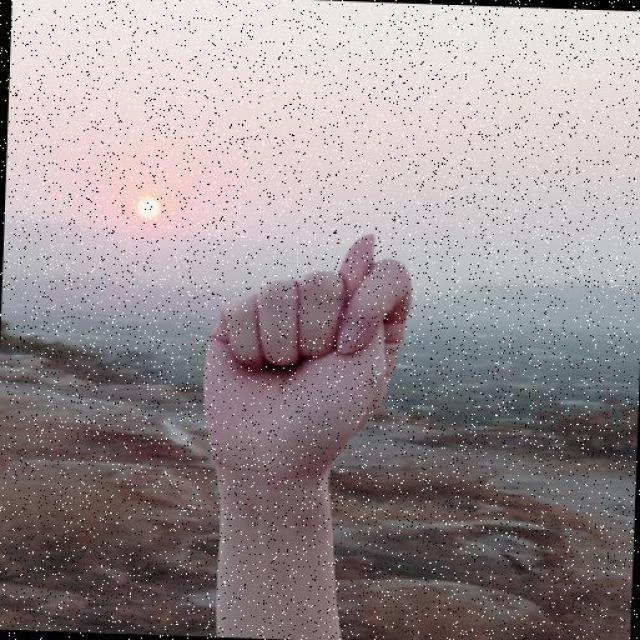T: (193, 225, 417, 486)
